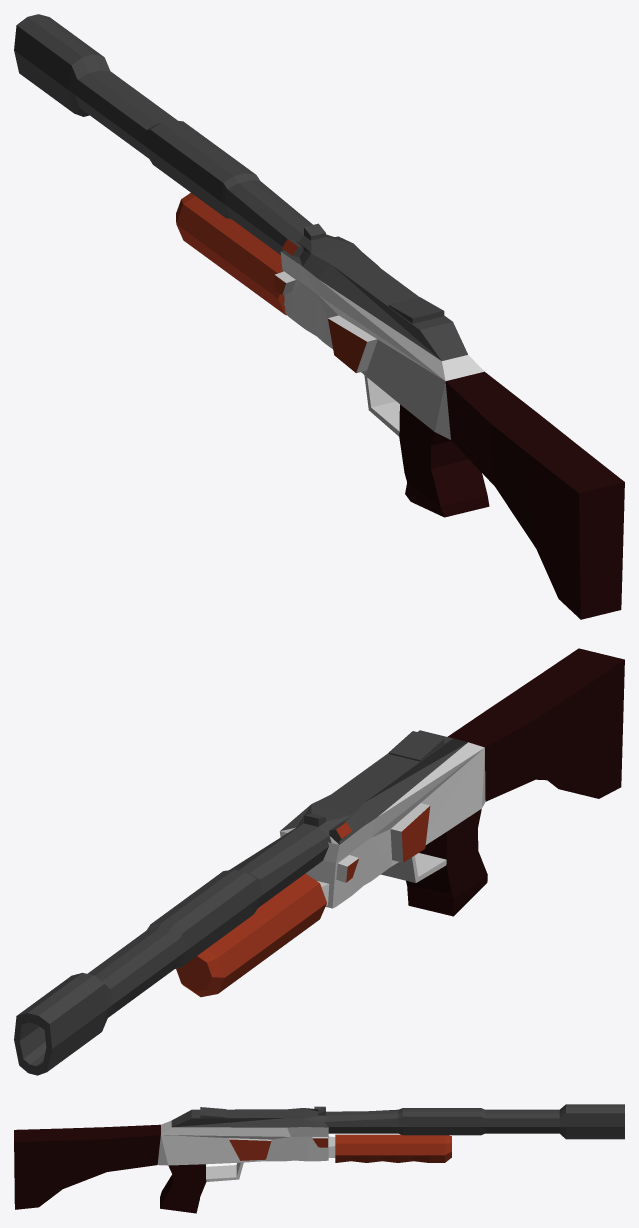
File: ShotGun_Model.fbx
3 views of the same model, one above another, from view 1: azimuth 30°, elevation 25°; view 2: azimuth 150°, elevation 25°; view 3: azimuth 270°, elevation 25° (orthographic). The views are drawn at different scales.
Visible parts, largest first — view 1: Cube; view 2: Cube; view 3: Cube.
Part boxes in pixels (bbox=[...]): Cube: bbox=[14, 14, 624, 619]; Cube: bbox=[14, 648, 624, 1075]; Cube: bbox=[14, 1104, 624, 1213].
Bounding box in the file's own units: 0.662 × 1.76 × 9.59.
